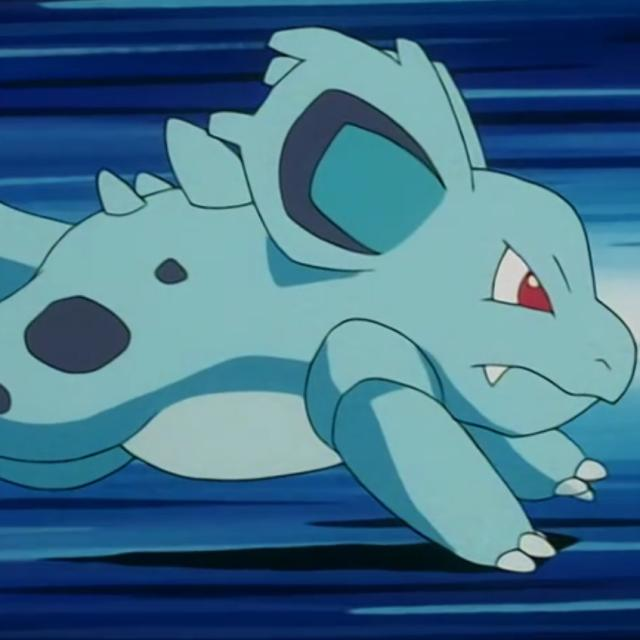Nidorina: (14, 21, 640, 520)
